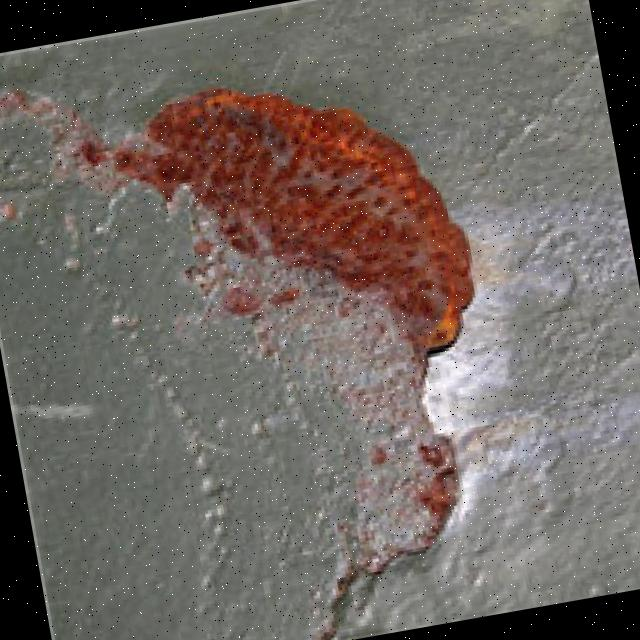Corrosion: (0, 13, 533, 640), (102, 45, 486, 401)
